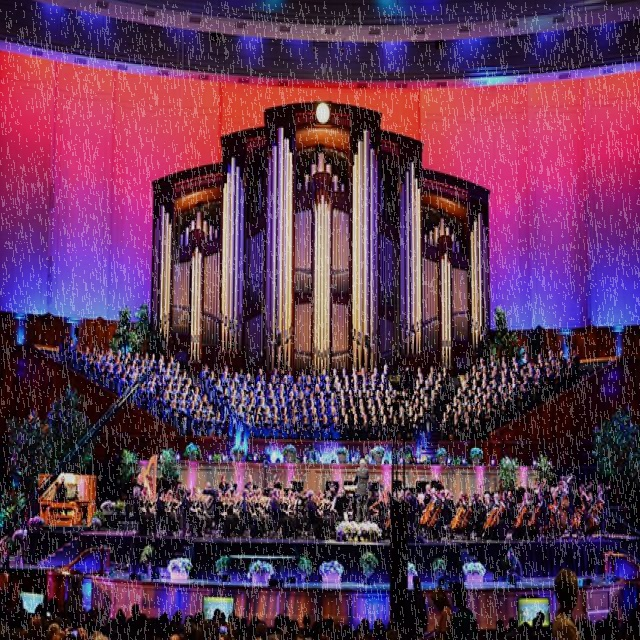pessoa: (200, 362, 440, 441), (56, 344, 200, 439), (439, 348, 582, 441), (130, 485, 354, 542), (402, 482, 592, 542), (494, 607, 639, 639), (548, 567, 586, 639), (447, 580, 481, 638), (0, 558, 21, 639), (428, 584, 456, 638), (270, 486, 296, 542), (212, 488, 238, 537), (131, 486, 155, 538), (182, 486, 206, 538), (304, 488, 328, 540), (368, 486, 392, 538), (154, 487, 178, 537), (354, 457, 371, 524), (67, 574, 85, 630), (242, 492, 264, 526), (596, 486, 608, 538), (506, 548, 524, 580), (55, 474, 68, 516), (217, 472, 230, 497), (135, 472, 145, 502), (243, 472, 258, 489)
